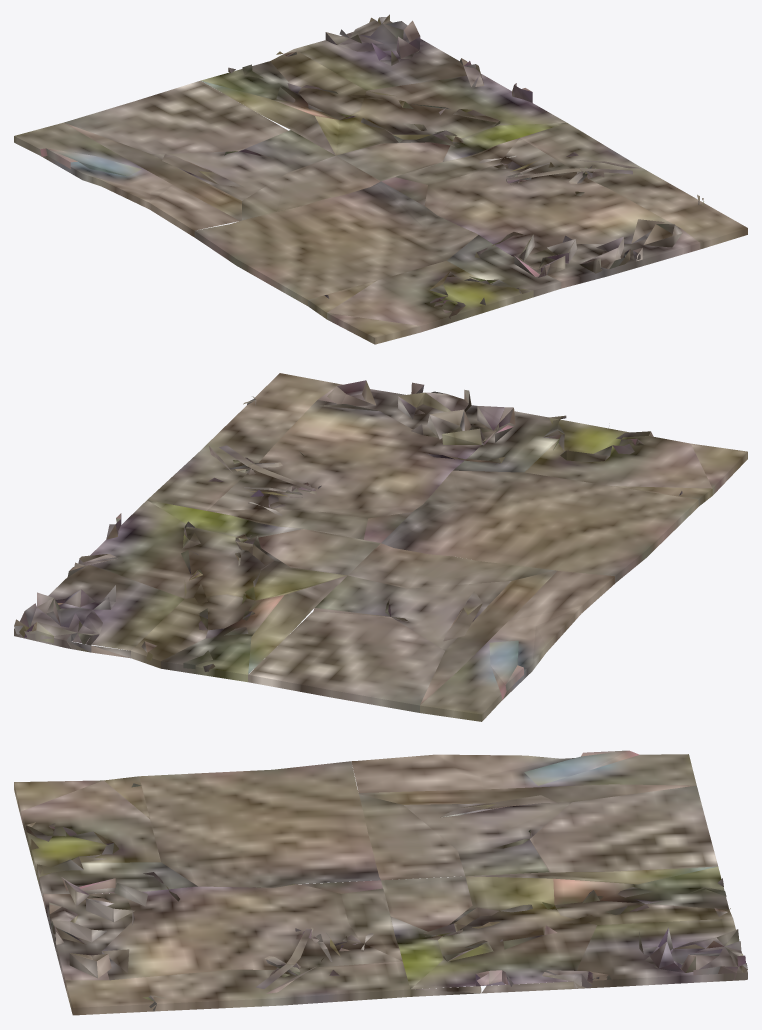
The picture shows the model from 3 angles, top to bottom: view 1: azimuth 30°, elevation 25°; view 2: azimuth 150°, elevation 25°; view 3: azimuth 270°, elevation 25°; orthographic projection. The views are drawn at different scales.
Parts seen in each view (by area): view 1: Mesh_0; view 2: Mesh_0; view 3: Mesh_0.
Boxes of the visible parts, x1=… form: Mesh_0: x1=14, y1=14, x2=747, y2=344; Mesh_0: x1=14, y1=373, x2=747, y2=721; Mesh_0: x1=14, y1=750, x2=747, y2=1015.
Size of the model in its own units: 1066 by 65.65 by 1318.
1 material, 1 textured.
